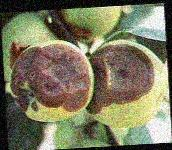rotten apple: (86, 35, 169, 128), (8, 38, 94, 123)
